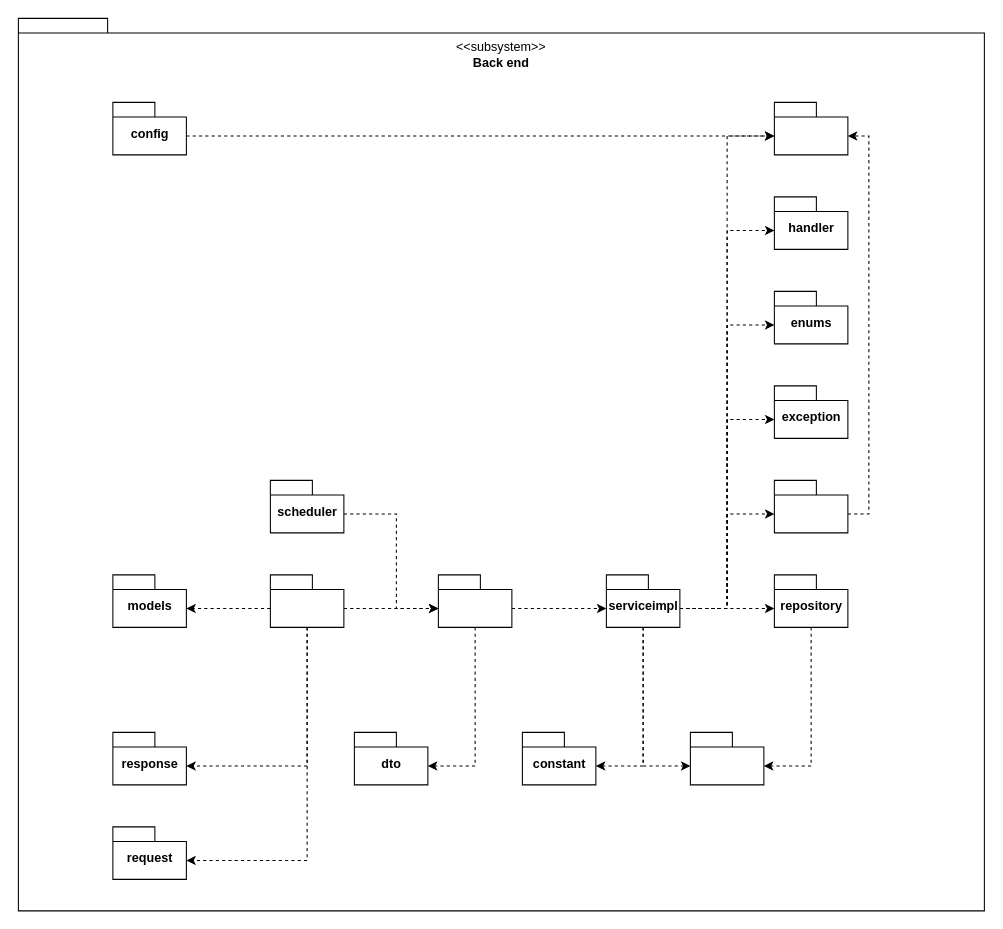
Some shapes in this 1003 by 929 pixel diagram are drawn without their labels. The shapes that lost their labels are listed below. From the top down, each one's centre as x and y in pixels, then its label:
[810,128]: security
[810,506]: utils
[306,600]: controller
[474,600]: service
[726,758]: entity
